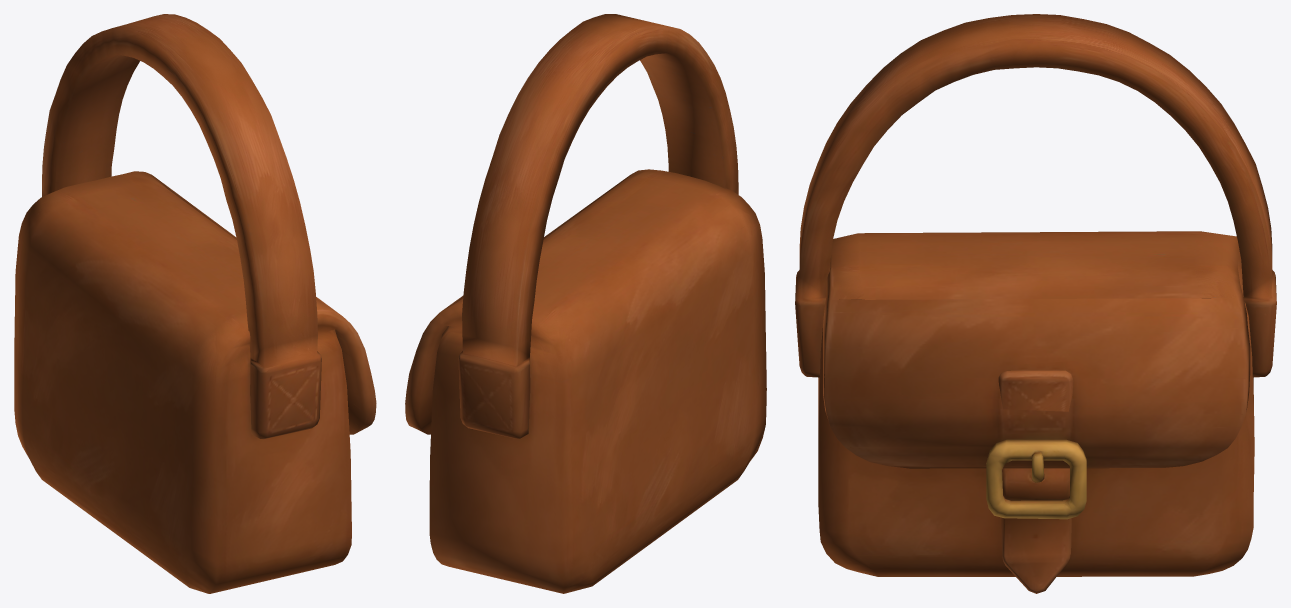
File: backpack.glb
3 views of the same model, side by side, from view 1: azimuth 30°, elevation 25°; view 2: azimuth 150°, elevation 25°; view 3: azimuth 270°, elevation 25° (orthographic). The views are drawn at different scales.
Visible parts, largest first — view 1: tripo_node_d288067e-8a30-4f0a-9b6e-5477f4e13d3f; view 2: tripo_node_d288067e-8a30-4f0a-9b6e-5477f4e13d3f; view 3: tripo_node_d288067e-8a30-4f0a-9b6e-5477f4e13d3f.
Boxes of the visible parts, <box> form: tripo_node_d288067e-8a30-4f0a-9b6e-5477f4e13d3f: <box>14,14,376,593</box>; tripo_node_d288067e-8a30-4f0a-9b6e-5477f4e13d3f: <box>405,14,766,593</box>; tripo_node_d288067e-8a30-4f0a-9b6e-5477f4e13d3f: <box>795,14,1276,593</box>.
Size of the model in its own units: 0.4082 by 0.998 by 0.8457.
1 material, 1 textured.
